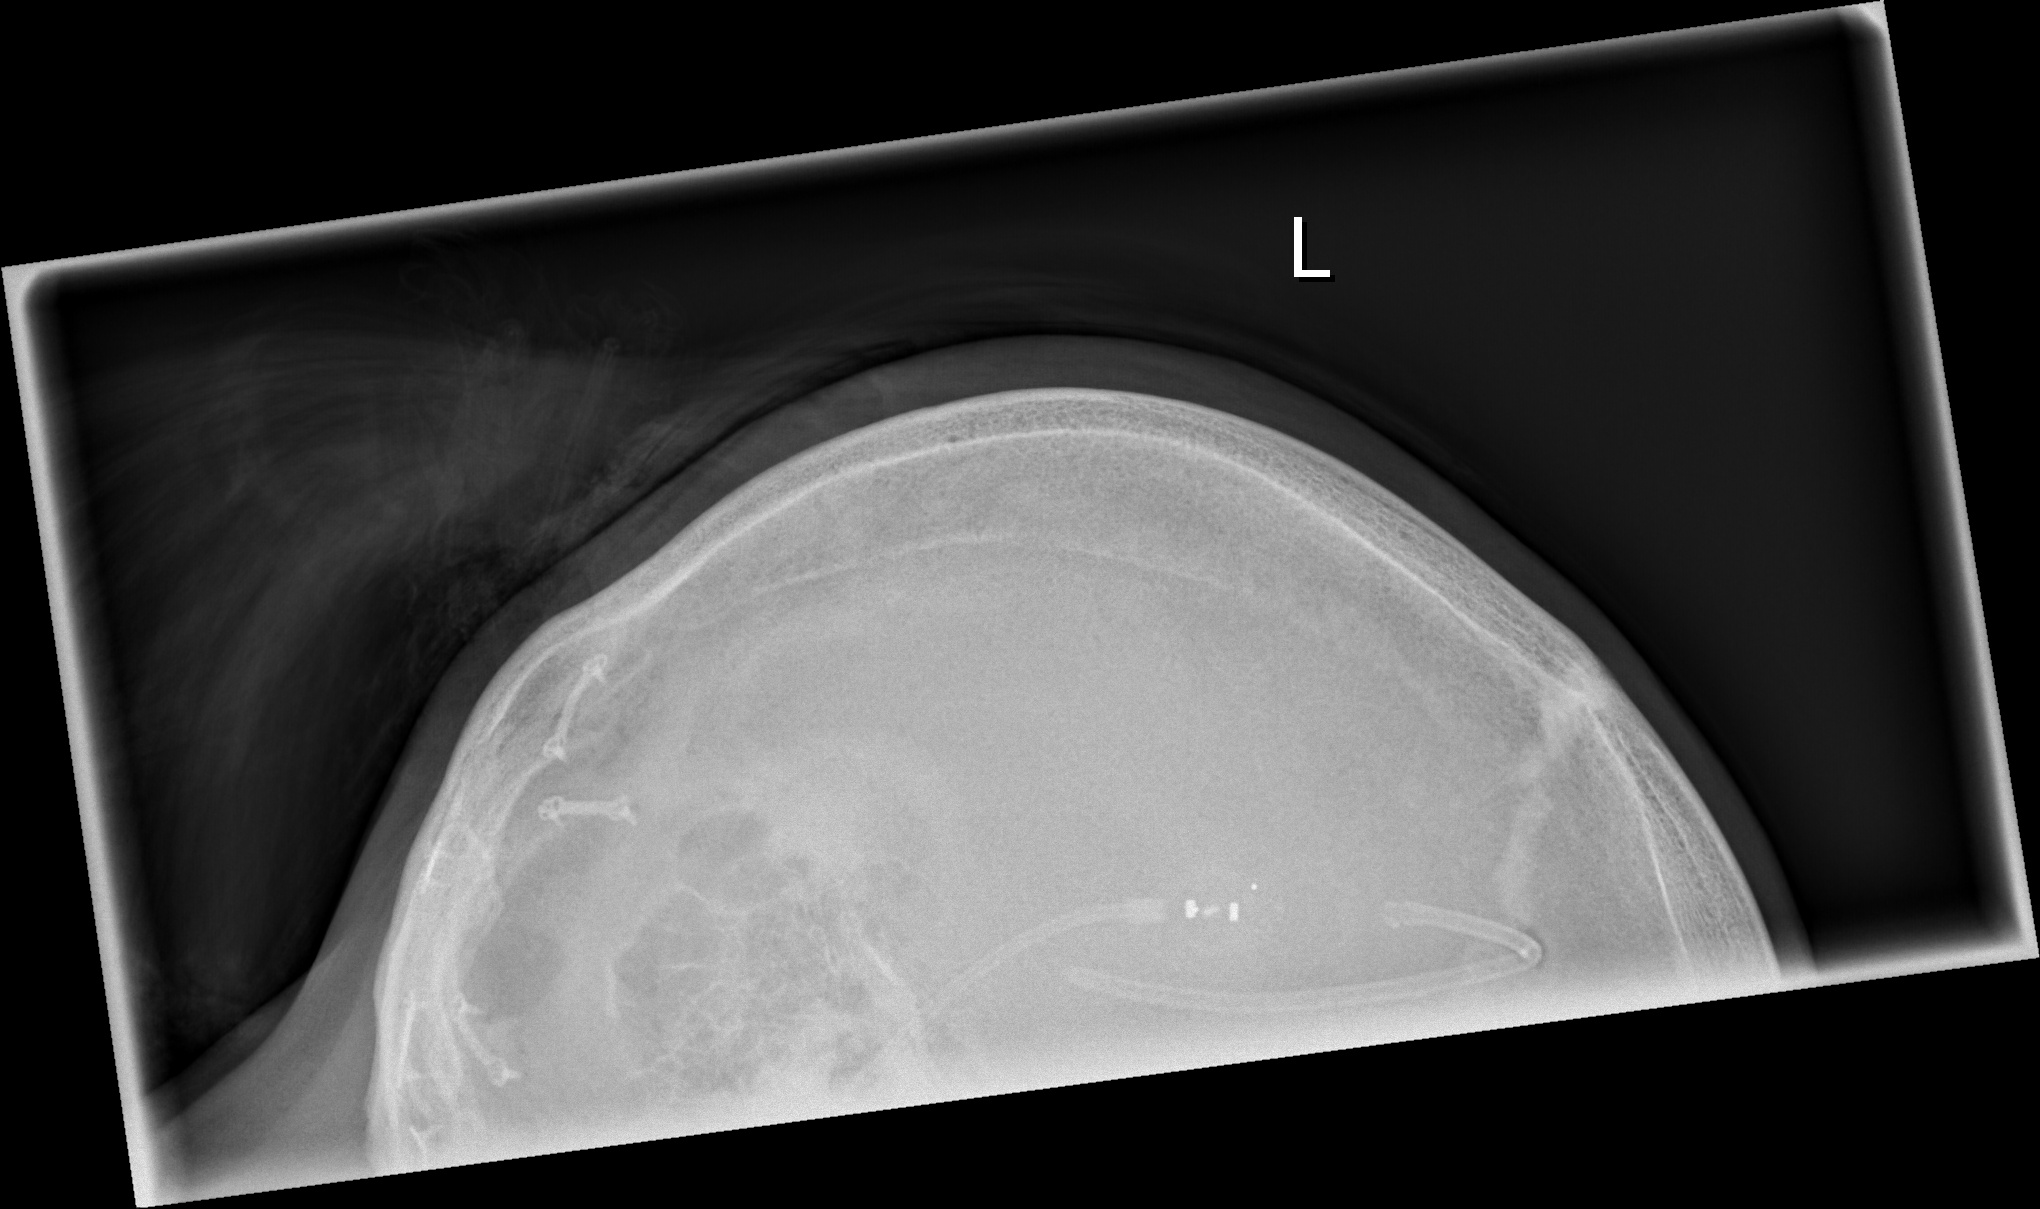Codman Certas: (1165, 856, 1280, 960)
